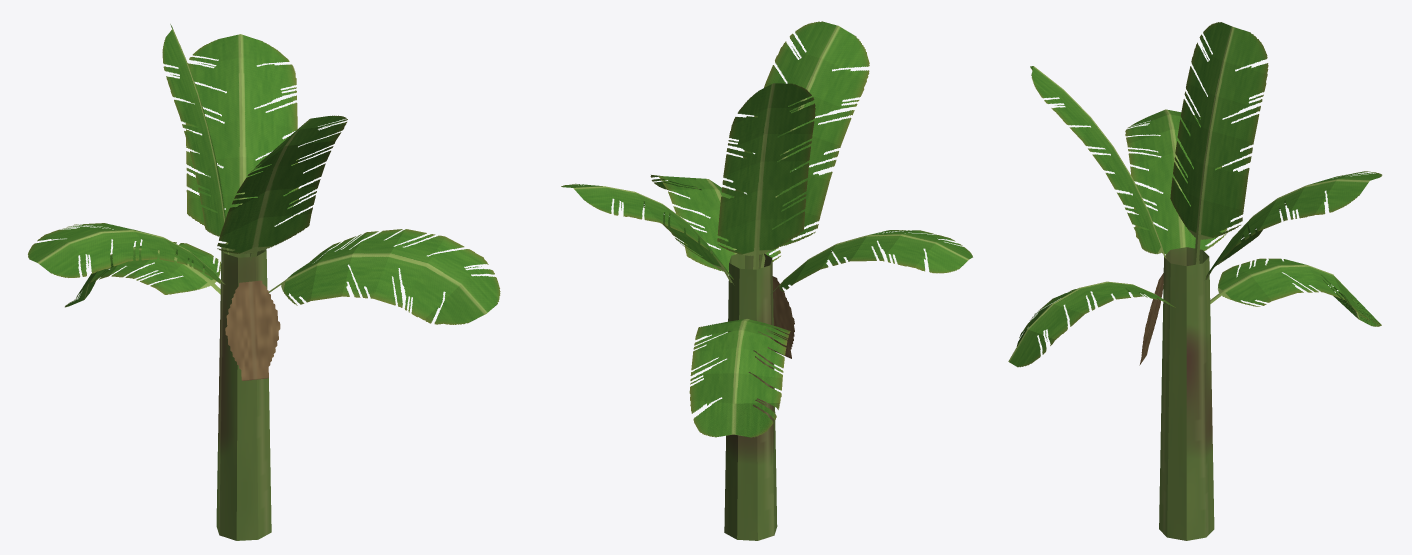
The model's file is banana_3.obj.
3 renders of one model, left to right at view 1: azimuth 30°, elevation 25°; view 2: azimuth 150°, elevation 25°; view 3: azimuth 270°, elevation 25°, orthographic. The views are drawn at different scales.
Parts seen in each view (by area): view 1: banana; view 2: banana; view 3: banana.
Part boxes in pixels (bbox=[...]): banana: bbox=[28, 24, 500, 540]; banana: bbox=[561, 21, 972, 540]; banana: bbox=[1008, 22, 1382, 540].
Bounding box in the file's own units: 1.91 × 2.2 × 1.62.
